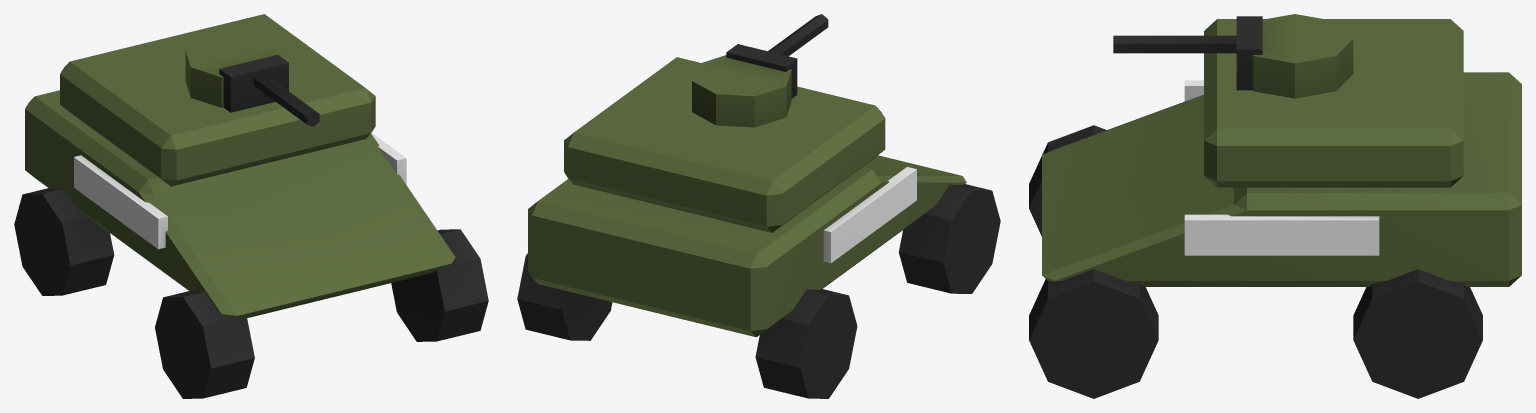
Rendered from ua-kozak-scout.glb.
3 renders of one model, left to right at view 1: azimuth 30°, elevation 25°; view 2: azimuth 150°, elevation 25°; view 3: azimuth 270°, elevation 25°, orthographic. The views are drawn at different scales.
Visible parts, largest first — view 1: ua-kozak-scout, turret; view 2: ua-kozak-scout, turret; view 3: ua-kozak-scout, turret.
Part boxes in pixels (x1,y1,x2,y2): ua-kozak-scout: [14, 14, 488, 398]; turret: [185, 36, 319, 126]; ua-kozak-scout: [517, 57, 1000, 398]; turret: [692, 14, 828, 127]; ua-kozak-scout: [1029, 19, 1521, 398]; turret: [1113, 14, 1353, 98].
Size of the model in its own units: 0.57 by 0.49 by 0.76.
